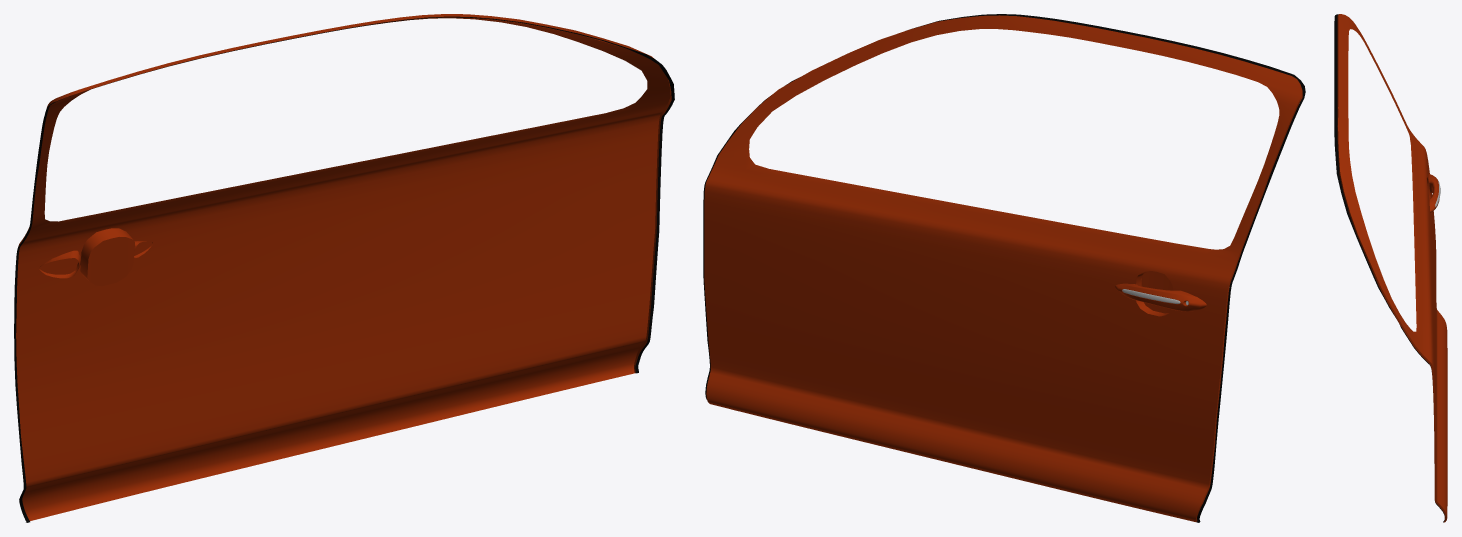
3 views of the same model, side by side, from view 1: azimuth 30°, elevation 25°; view 2: azimuth 150°, elevation 25°; view 3: azimuth 270°, elevation 25° (orthographic). The views are drawn at different scales.
Parts seen in each view (by area): view 1: U236_17_261B_L_U236_17_261B_L_1_DaS, U236_17_261B_L_U236_17_261B_L_1_DaS_E, U236_17_261B_L_U236_17_261B_L_3_D; view 2: U236_17_261B_L_U236_17_261B_L_1_DaS, U236_17_261B_L_U236_17_261B_L_3_D, U236_17_261B_L_U236_17_261B_L_1_DaS_E; view 3: U236_17_261B_L_U236_17_261B_L_1_DaS, U236_17_261B_L_U236_17_261B_L_1_DaS_E, U236_17_261B_L_U236_17_261B_L_3_D.
Part boxes in pixels (x1,y1,x2,y2): U236_17_261B_L_U236_17_261B_L_1_DaS: (16,17,670,520); U236_17_261B_L_U236_17_261B_L_1_DaS_E: (18,14,671,373); U236_17_261B_L_U236_17_261B_L_3_D: (14,16,674,522); U236_17_261B_L_U236_17_261B_L_1_DaS: (704,15,1302,521); U236_17_261B_L_U236_17_261B_L_3_D: (703,14,1305,522); U236_17_261B_L_U236_17_261B_L_1_DaS_E: (1136,90,1302,521); U236_17_261B_L_U236_17_261B_L_1_DaS: (1338,14,1447,519); U236_17_261B_L_U236_17_261B_L_1_DaS_E: (1337,14,1447,522); U236_17_261B_L_U236_17_261B_L_3_D: (1334,14,1445,522).
Size of the model in its own units: 150 by 107 by 34.79.
